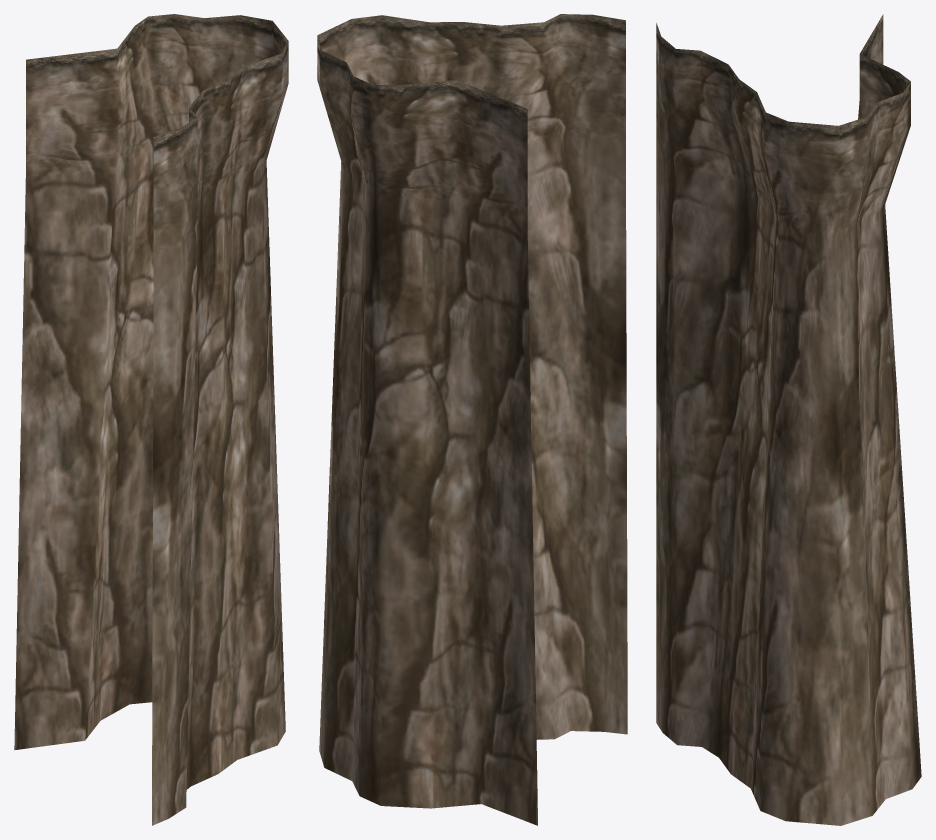
Rendered from OVERHILL_A_01_LINE57.fbx.
3 renders of one model, left to right at view 1: azimuth 30°, elevation 25°; view 2: azimuth 150°, elevation 25°; view 3: azimuth 270°, elevation 25°, orthographic. The views are drawn at different scales.
Parts seen in each view (by area): view 1: OVERHILL_A_01_LINE57; view 2: OVERHILL_A_01_LINE57; view 3: OVERHILL_A_01_LINE57.
Boxes of the visible parts, bbox=[...] form: OVERHILL_A_01_LINE57: bbox=[14, 14, 288, 825]; OVERHILL_A_01_LINE57: bbox=[317, 14, 627, 825]; OVERHILL_A_01_LINE57: bbox=[656, 14, 921, 825].
Bounding box in the file's own units: 48487 × 135326 × 46370.
Materials: 2 (2 with a texture image).
